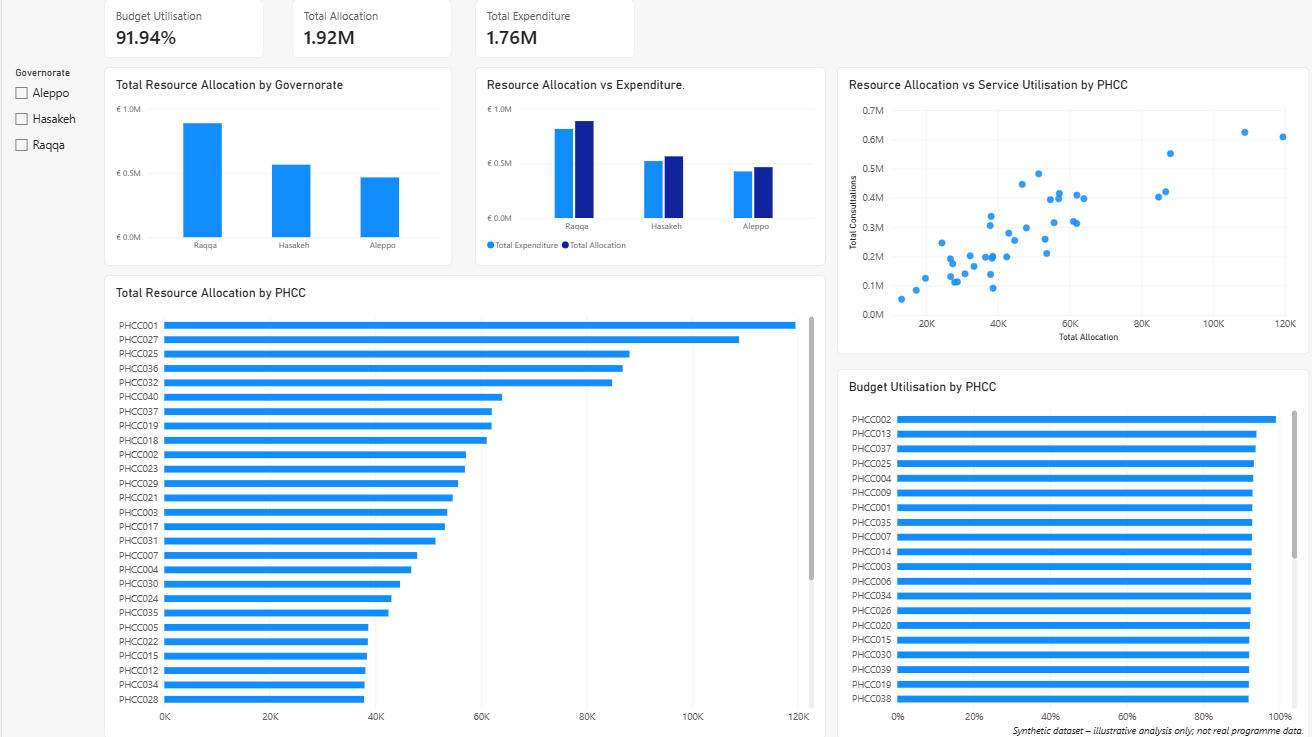

This screenshot's page, from the dashboard's own definition file:
{"tool":"powerbi","page":{"name":"Resource Allocation","canvas":[1920,1080],"ordinal":1},"visuals":[{"type":"clusteredColumnChart","title":"Total Resource Allocation by Governorate","fields":{"Category":["PHCC_Integrated.Governorate"],"Y":["PHCC_Integrated.Total Allocation"]},"box":[148.8,99.2,507.7,290.3],"z":0},{"type":"clusteredColumnChart","title":"Resource Allocation vs Expenditure.","fields":{"Category":["PHCC_Integrated.Governorate"],"Y":["PHCC_Integrated.Total Expenditure","PHCC_Integrated.Total Allocation"]},"box":[690.1,99.2,512.1,290.3],"z":1000},{"type":"cardVisual","fields":{"Data":["PHCC_Integrated.Budget Utilisation"]},"box":[148.8,0,233.4,86.1],"z":2000},{"type":"cardVisual","fields":{"Data":["PHCC_Integrated.Total Allocation"]},"box":[423.1,0,233.4,86.1],"z":3000},{"type":"cardVisual","fields":{"Data":["PHCC_Integrated.Total Expenditure"]},"box":[690.1,0,233.4,86.1],"z":4000},{"type":"clusteredBarChart","title":"Total Resource Allocation by PHCC","fields":{"Category":["PHCC_Integrated.Facility_ID"],"Y":["PHCC_Integrated.Total Allocation"]},"box":[148.8,402.7,1053.4,677],"z":5000},{"type":"scatterChart","title":"Resource Allocation vs Service Utilisation by PHCC","fields":{"Category":["PHCC_Integrated.Facility_ID"],"X":["PHCC_Integrated.Total Allocation"],"Y":["PHCC_Integrated.Total Consultations"]},"box":[1218.2,99.2,688.6,418.7],"z":6000},{"type":"clusteredBarChart","title":"Budget Utilisation by PHCC","fields":{"Category":["PHCC_Integrated.Facility_ID"],"Y":["PHCC_Integrated.Budget Utilisation"]},"box":[1218.2,539.8,688.6,539.8],"z":7000},{"type":"slicer","fields":{"Values":["PHCC_Integrated.Governorate"]},"box":[11.7,99.2,115.3,175.1],"z":8000},{"type":"textbox","box":[1475,1057.8,445,21.9],"z":8001}]}

Visuals, with their boxes in screenshot pixels (x1, y1, x2, y2), scaled from the page's 1920x1080 canvas onto the 1312x737 screenshot:
"Total Resource Allocation by Governorate" clusteredColumnChart: rect(102, 68, 449, 266)
"Resource Allocation vs Expenditure." clusteredColumnChart: rect(472, 68, 822, 266)
cardVisual - PHCC_Integrated.Budget Utilisation: rect(102, 0, 261, 59)
cardVisual - PHCC_Integrated.Total Allocation: rect(289, 0, 449, 59)
cardVisual - PHCC_Integrated.Total Expenditure: rect(472, 0, 631, 59)
"Total Resource Allocation by PHCC" clusteredBarChart: rect(102, 275, 822, 736)
"Resource Allocation vs Service Utilisation by PHCC" scatterChart: rect(832, 68, 1303, 353)
"Budget Utilisation by PHCC" clusteredBarChart: rect(832, 368, 1303, 736)
slicer - PHCC_Integrated.Governorate: rect(8, 68, 87, 187)
textbox: rect(1008, 722, 1311, 736)
